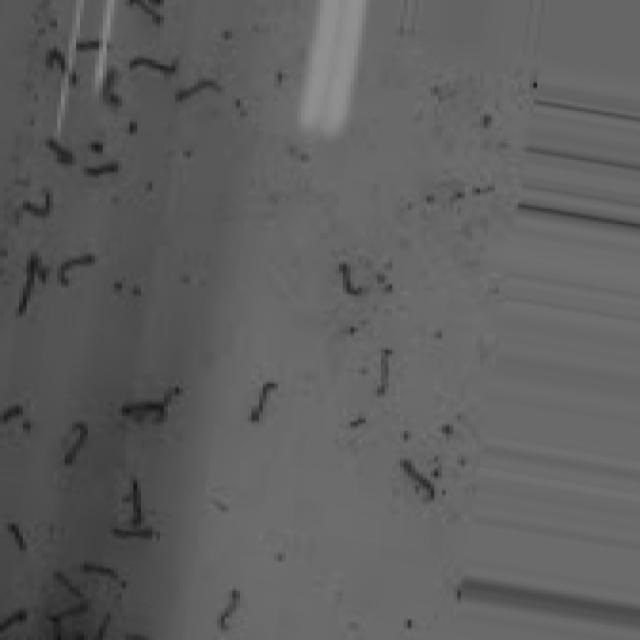larvas: (17, 249, 54, 313), (55, 252, 98, 287), (402, 460, 437, 496), (247, 381, 277, 421), (60, 422, 87, 462), (116, 402, 168, 421), (174, 80, 223, 100), (123, 0, 161, 24), (103, 66, 127, 104), (218, 588, 240, 628), (374, 349, 392, 396), (24, 190, 54, 218), (339, 262, 363, 294), (129, 479, 146, 524), (47, 136, 73, 165), (132, 56, 177, 72), (47, 603, 89, 620), (54, 573, 84, 596), (85, 160, 124, 176), (53, 618, 81, 640), (83, 564, 122, 578), (7, 522, 25, 549), (2, 609, 30, 626), (112, 529, 158, 539), (1, 403, 24, 423), (47, 48, 66, 69), (92, 612, 106, 640), (72, 41, 111, 51), (160, 386, 185, 399)
